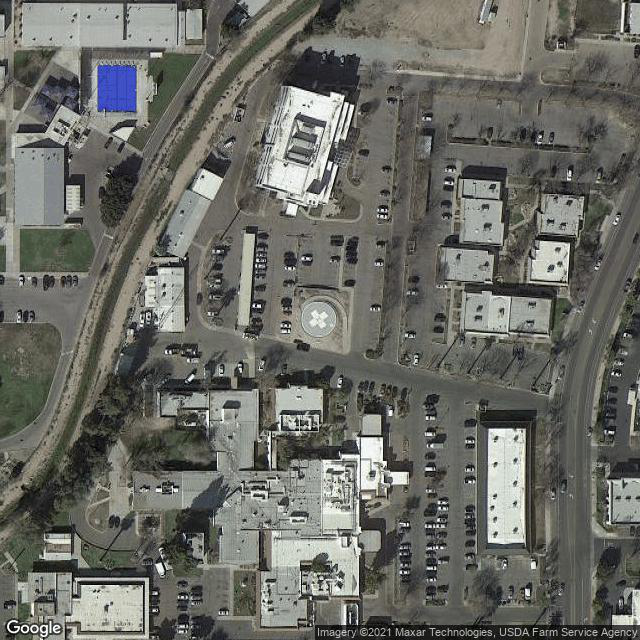Helipad: (303, 303, 334, 335)
